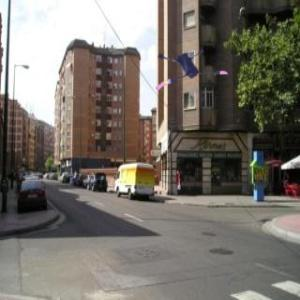drone: (142, 31, 222, 111)
